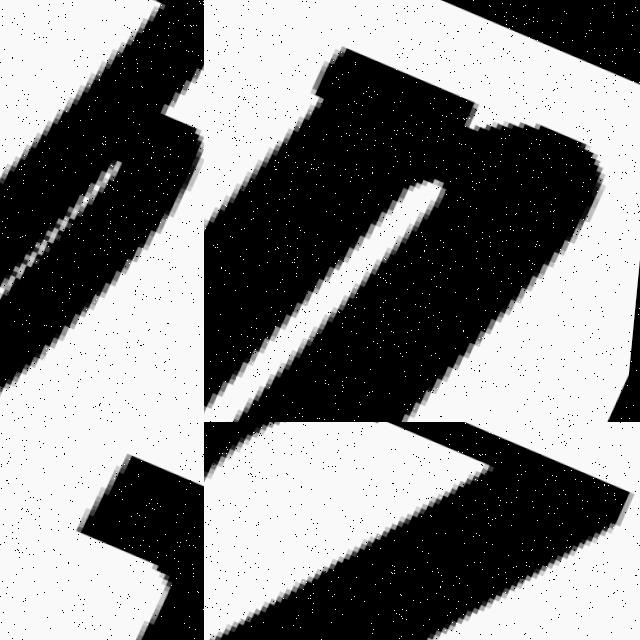Q: (0, 0, 204, 422)
T: (0, 422, 204, 640)
U: (204, 0, 636, 422)
Z: (204, 422, 640, 640)
